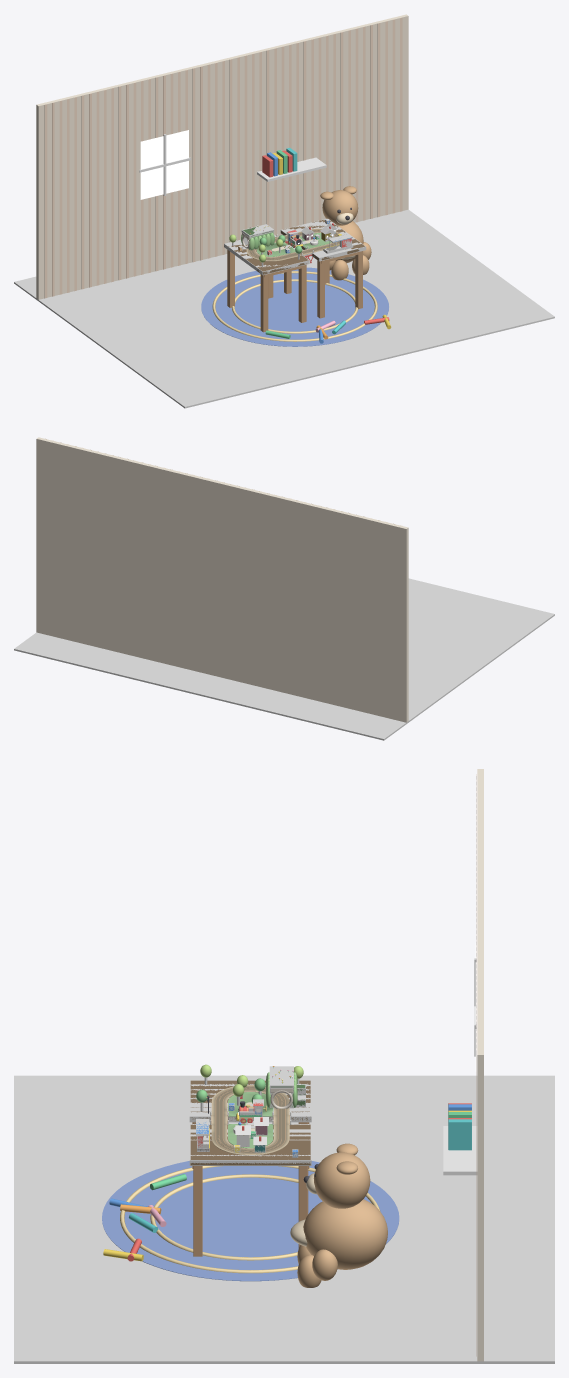
Rendered from train.glb.
The picture shows the model from 3 angles, top to bottom: view 1: azimuth 30°, elevation 25°; view 2: azimuth 150°, elevation 25°; view 3: azimuth 270°, elevation 25°; orthographic projection. The views are drawn at different scales.
Visible parts, largest first — view 1: wall, col_box_floor, wall_stripes, rug, window, rug_band, bear_head, col_box_table.001, rug_band.001, table_top, track, col_box_table (+3 smaller); view 2: wall, col_box_floor; view 3: col_box_floor, rug, bear_body, wall, bear_head, track, table_top.001, rug_band, col_box_table, rug_band.001, shelf, col_box_table.001 (+3 smaller).
Boxes of the visible parts, x1,y1,x2,y2 form: wall: (36, 14, 408, 299); col_box_floor: (14, 209, 554, 408); wall_stripes: (44, 17, 402, 298); rug: (201, 267, 388, 346); window: (140, 130, 188, 199); rug_band: (212, 271, 377, 341); bear_head: (322, 190, 358, 225); col_box_table.001: (280, 218, 366, 261); rug_band.001: (232, 279, 358, 333); table_top: (224, 237, 308, 274); track: (246, 228, 339, 261); col_box_table: (224, 234, 309, 275); wall: (36, 437, 408, 722); col_box_floor: (14, 578, 554, 740); col_box_floor: (14, 1075, 554, 1363); rug: (102, 1161, 399, 1281); bear_body: (303, 1199, 387, 1269); wall: (477, 769, 483, 1361); bear_head: (313, 1152, 370, 1208); track: (211, 1085, 289, 1155); table_top.001: (190, 1124, 310, 1165); rug_band: (120, 1166, 380, 1273); col_box_table: (189, 1080, 311, 1122); rug_band.001: (150, 1174, 298, 1260); shelf: (443, 1126, 477, 1175); col_box_table.001: (189, 1124, 311, 1165).
Bounding box in the file's own units: 100 × 50.93 × 80.
